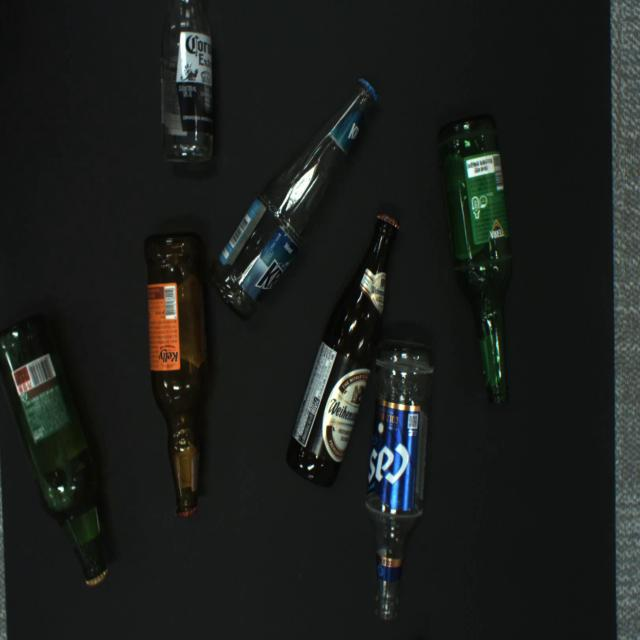beer-bottle: (207, 77, 379, 323), (286, 213, 400, 488), (0, 314, 110, 586), (438, 114, 513, 405), (364, 339, 435, 623), (144, 232, 211, 519), (160, 0, 213, 164)
